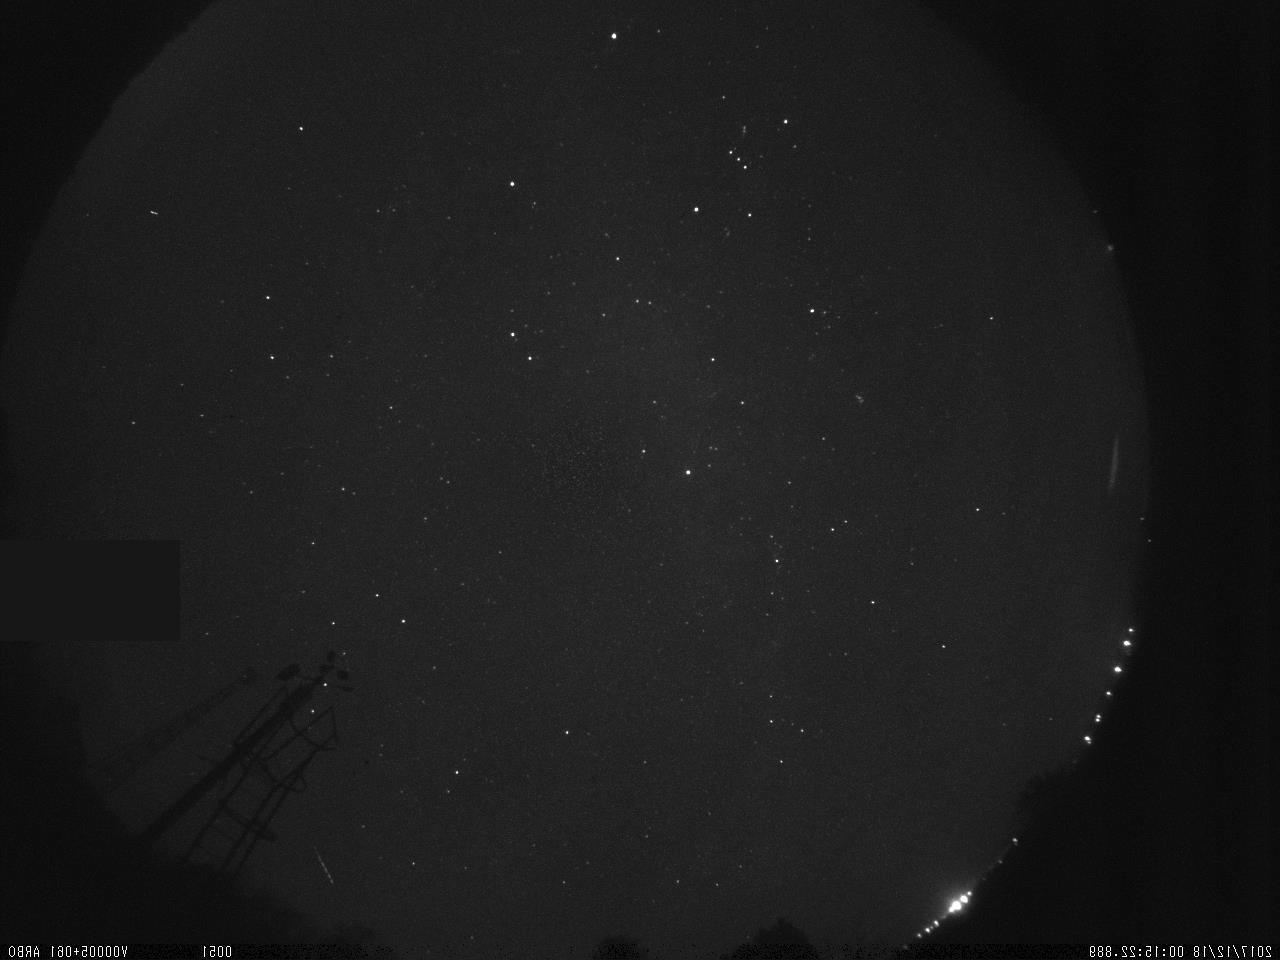meteor: (309, 833, 342, 897)
